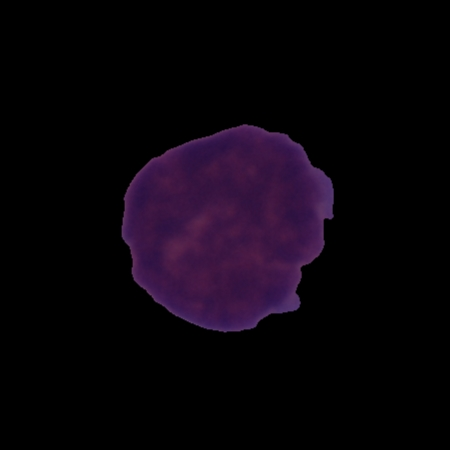ALL: (118, 120, 337, 335)
